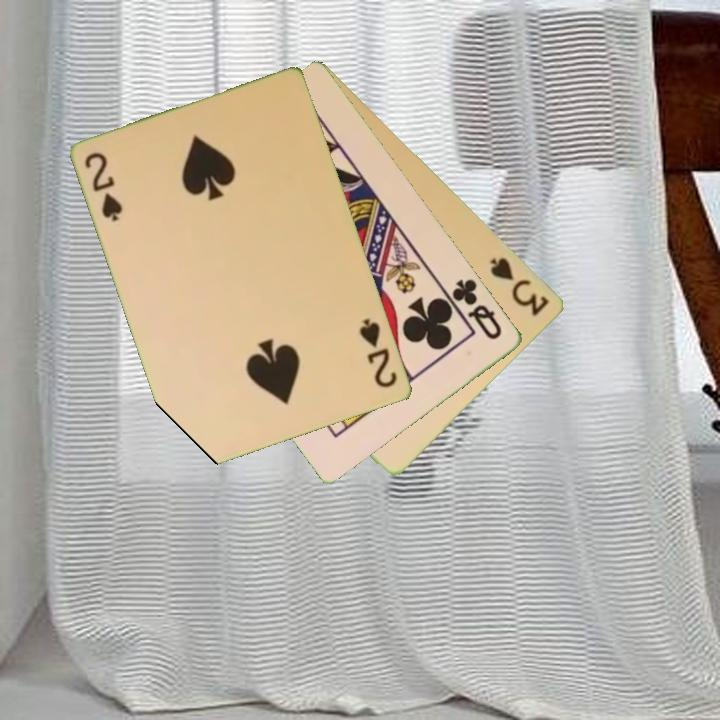2s: (356, 315, 401, 391), (81, 149, 126, 225)
3s: (487, 254, 553, 320)
Qc: (442, 275, 506, 343)
